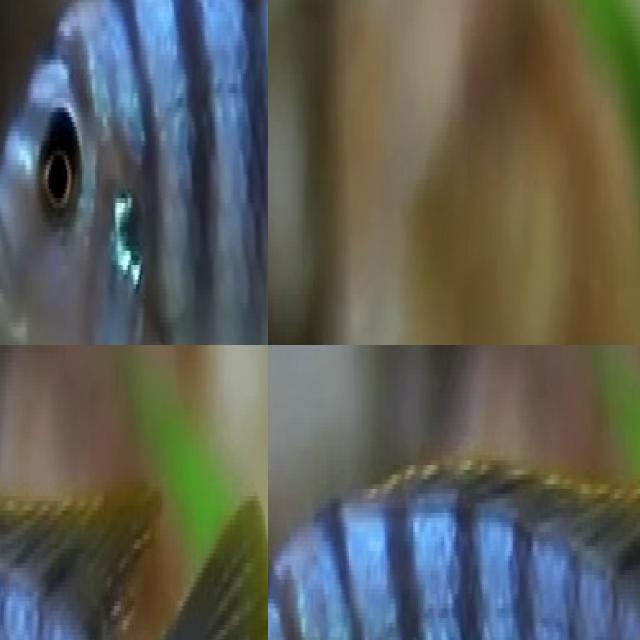fish: (268, 365, 640, 640), (0, 0, 268, 345)
